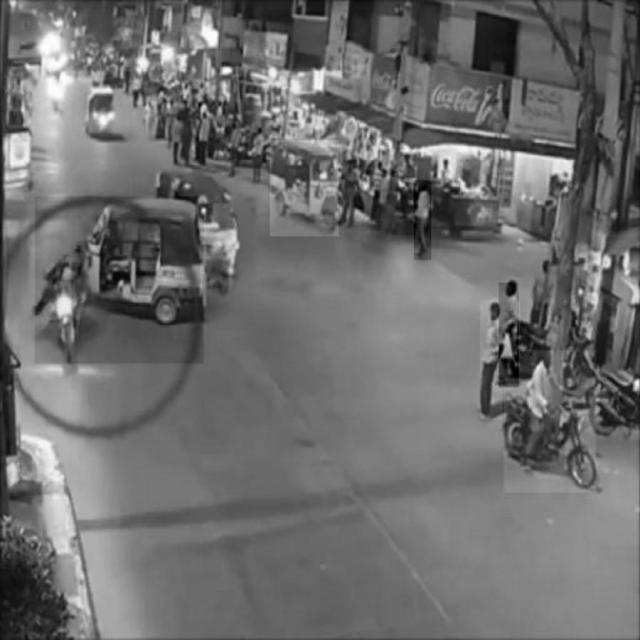accident: (35, 197, 203, 364)
person: (480, 301, 504, 421), (499, 283, 519, 387), (415, 180, 432, 260)
vehicle: (503, 351, 595, 493), (270, 141, 338, 237)
